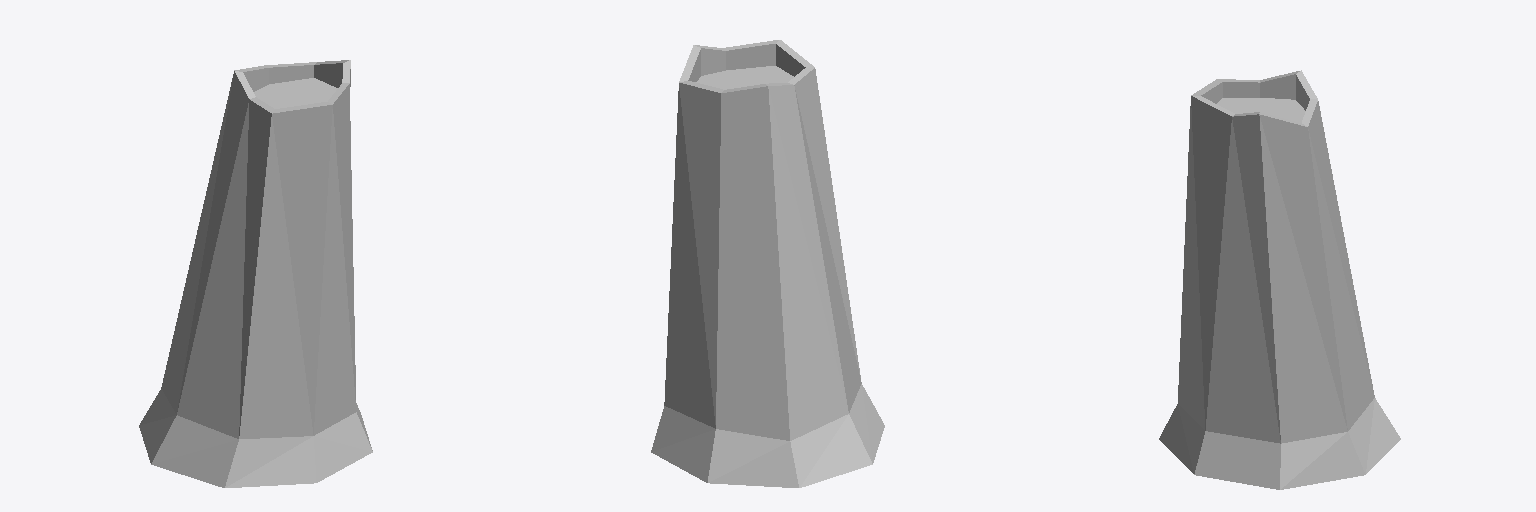
File: Stump_1.obj
3 renders of one model, left to right at view 1: azimuth 30°, elevation 25°; view 2: azimuth 150°, elevation 25°; view 3: azimuth 270°, elevation 25°, orthographic.
Visible parts, largest first — view 1: Stump.1; view 2: Stump.1; view 3: Stump.1.
Part boxes in pixels (x1,y1,x2,y2): Stump.1: (139, 60, 372, 487); Stump.1: (651, 40, 884, 487); Stump.1: (1159, 70, 1400, 489).
Size of the model in its own units: 0.371 by 0.618 by 0.371.